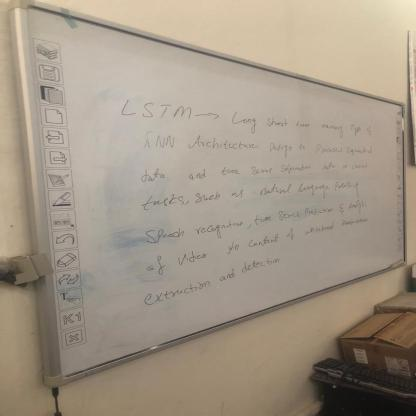Handwritten text: (125, 172, 380, 259), (127, 203, 383, 284), (112, 87, 387, 155), (132, 239, 308, 327), (129, 163, 382, 216), (131, 128, 382, 168), (129, 156, 379, 185)
Whiteboard: (5, 6, 410, 398)
